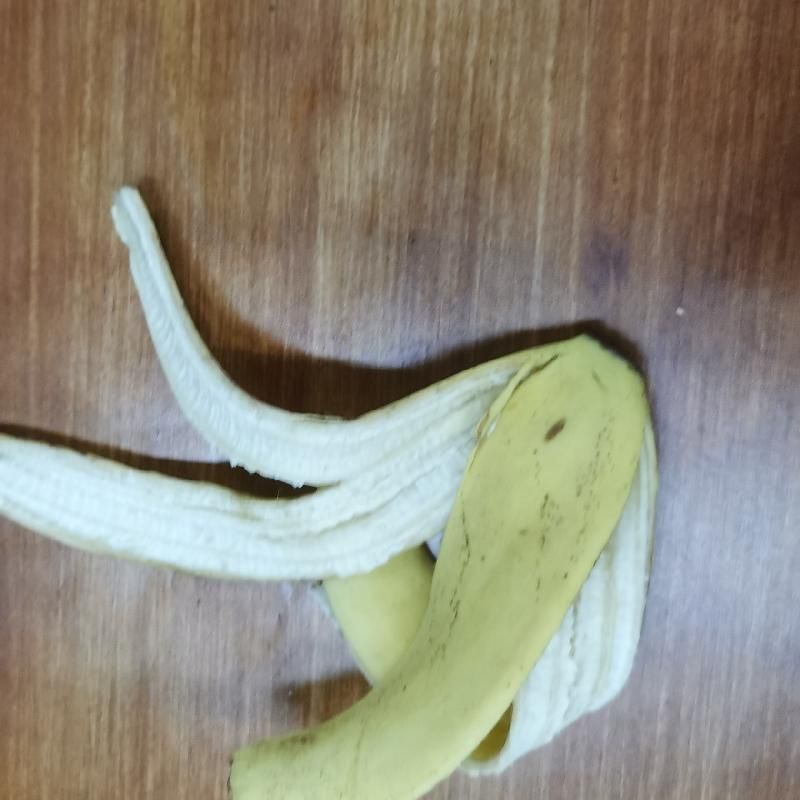bananas: (5, 163, 667, 800)
